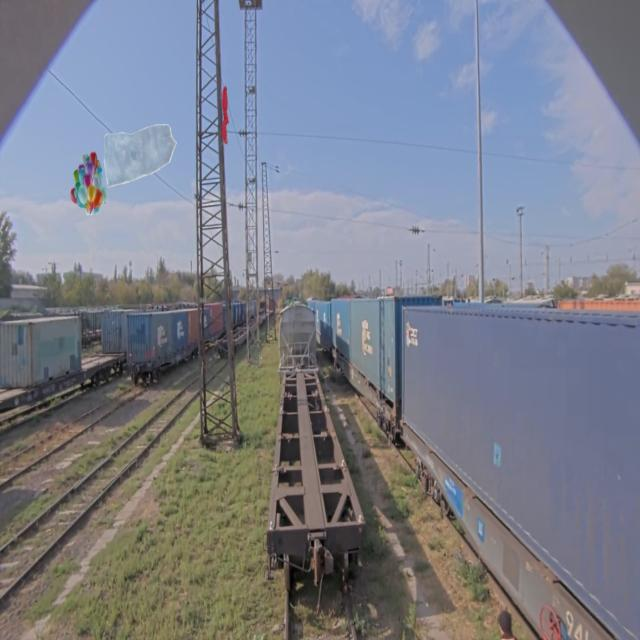balloon: (70, 151, 107, 215)
floating object: (103, 124, 177, 188), (222, 82, 230, 146)
